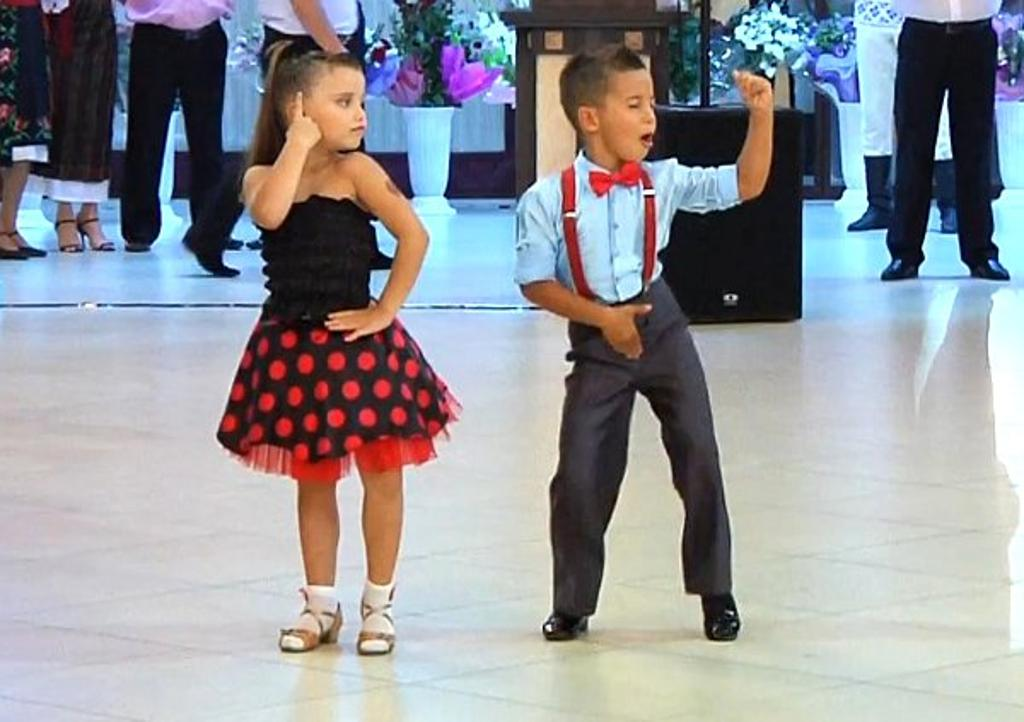face: (606, 58, 658, 162), (306, 68, 368, 152)
